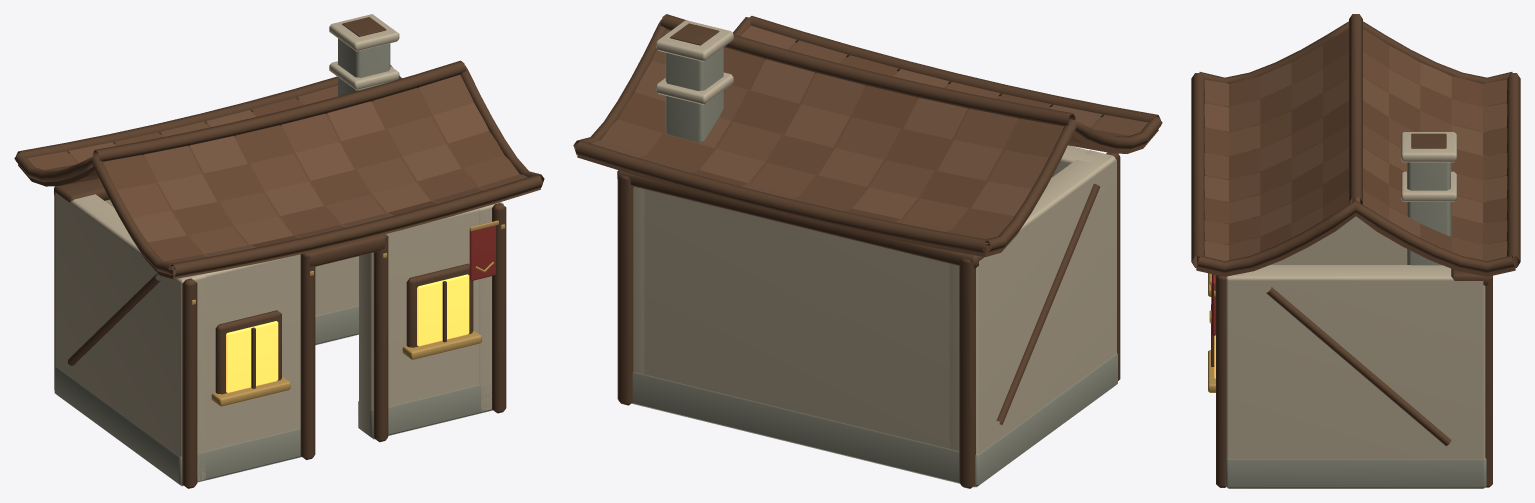
Rendered from architecture-cottage.glb.
The picture shows the model from 3 angles, left to right: view 1: azimuth 30°, elevation 25°; view 2: azimuth 150°, elevation 25°; view 3: azimuth 270°, elevation 25°; orthographic projection. The views are drawn at different scales.
Parts seen in each view (by area): view 1: architecture-cottage-exterior; view 2: architecture-cottage-exterior; view 3: architecture-cottage-exterior.
Part boxes in pixels (box(x1,y1,x2,y2)): architecture-cottage-exterior: box(14, 14, 544, 488); architecture-cottage-exterior: box(573, 14, 1162, 488); architecture-cottage-exterior: box(1191, 14, 1520, 488).
Bounding box in the file's own units: 4.07 × 3.31 × 3.
